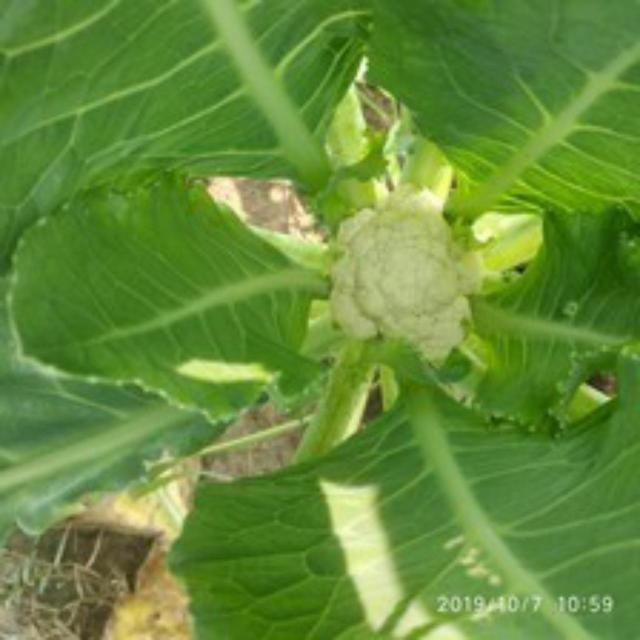cauliflower: (319, 187, 483, 367)
